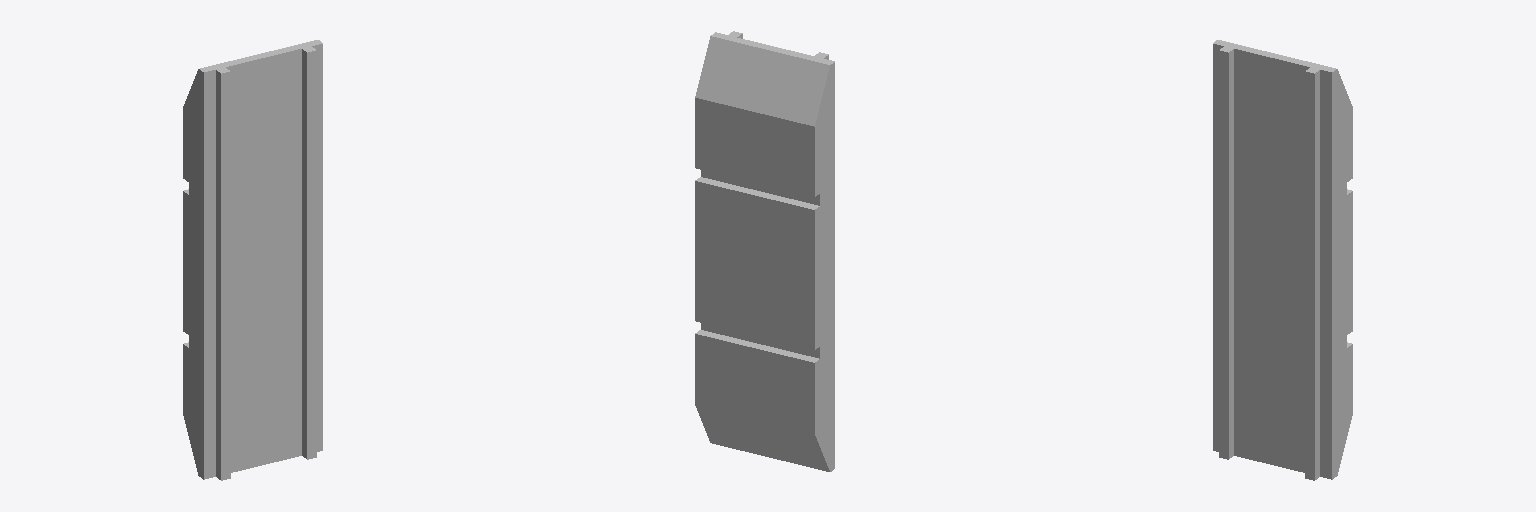
File: X_axis.obj
3 views of the same model, side by side, from view 1: azimuth 30°, elevation 25°; view 2: azimuth 150°, elevation 25°; view 3: azimuth 330°, elevation 25° (orthographic).
Parts seen in each view (by area): view 1: Solid1; view 2: Solid1; view 3: Solid1.
Part boxes in pixels (left/top/right/bottom): Solid1: left=183, top=40, right=322, bottom=480; Solid1: left=695, top=31, right=834, bottom=471; Solid1: left=1213, top=40, right=1352, bottom=480.
Size of the model in its own units: 200 by 650 by 76.